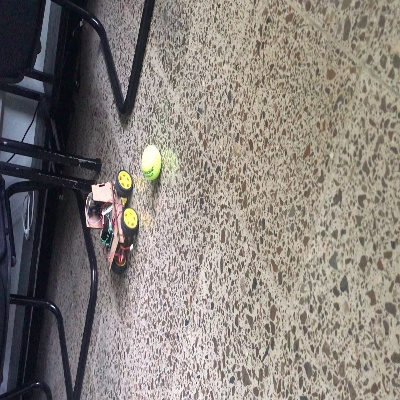Ball: (141, 145, 160, 180)
Robot: (83, 170, 137, 274)
